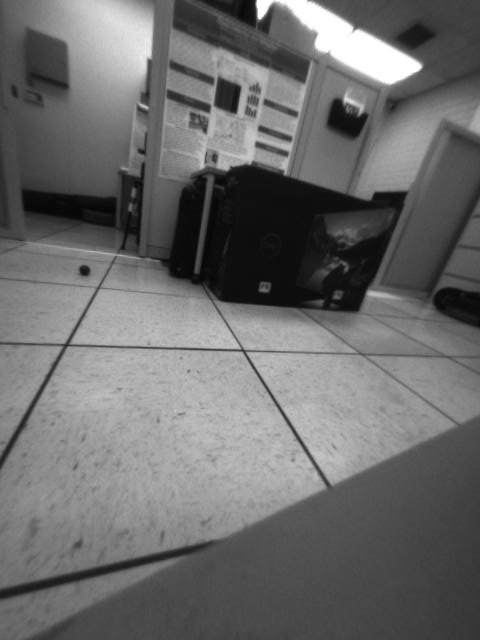dogtoy: (72, 256, 96, 279)
